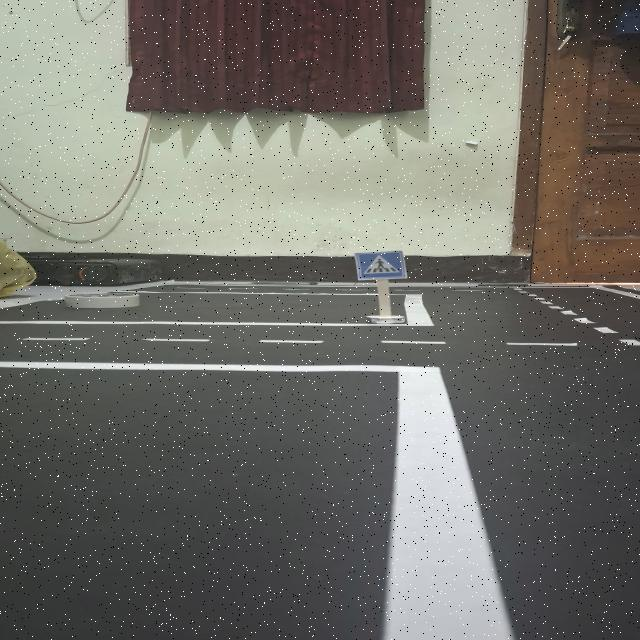Rambu Penyebrangan: (356, 253, 406, 280)
